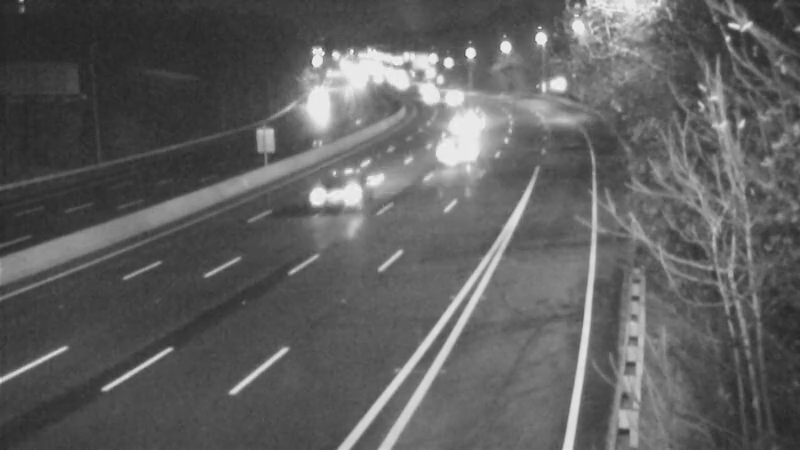vehicle: (283, 160, 363, 240), (404, 73, 454, 123), (426, 72, 476, 122), (433, 92, 483, 142), (436, 124, 486, 174), (287, 80, 337, 130)
